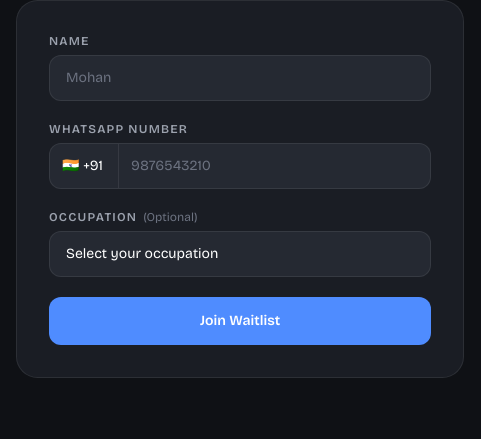
Scenario: WaitlistForm — validation › shows error when name is only 1 character
Type "A" into the field with placeholder "Mohan" at (240, 78), box [49, 55, 431, 101]
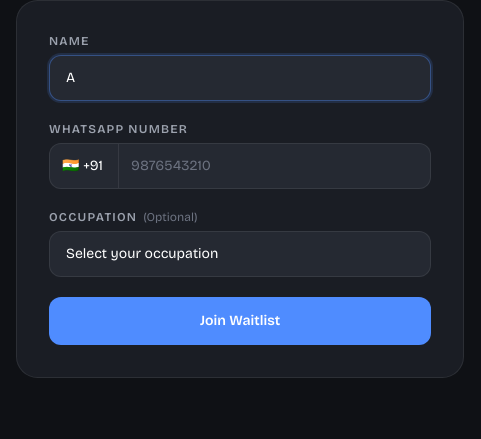
Click the button "Join Waitlist" at (240, 321), box [49, 297, 431, 345]
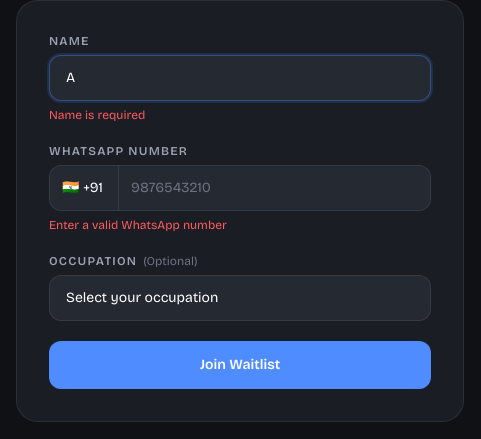
Now the text "Name is required" is shown, box [49, 108, 145, 122]
